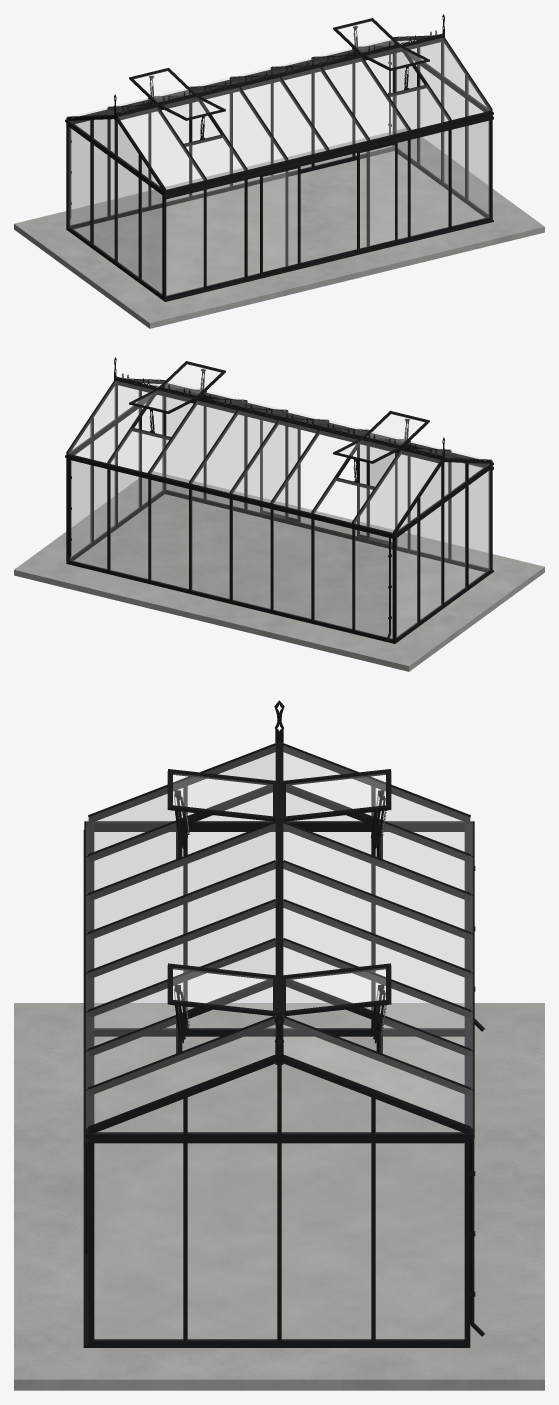
Rendered from sg-rect-10-2-19-11-decor.glb.
3 views of the same model, one above another, from view 1: azimuth 30°, elevation 25°; view 2: azimuth 150°, elevation 25°; view 3: azimuth 270°, elevation 25° (orthographic). The views are drawn at different scales.
Visible parts, largest first — view 1: scandiglas-rect-10-2-19-11-decor; view 2: scandiglas-rect-10-2-19-11-decor; view 3: scandiglas-rect-10-2-19-11-decor.
Boxes of the visible parts, x1,y1,x2,y2 form: scandiglas-rect-10-2-19-11-decor: [14, 14, 544, 328]; scandiglas-rect-10-2-19-11-decor: [14, 357, 544, 671]; scandiglas-rect-10-2-19-11-decor: [14, 700, 544, 1390].
Bounding box in the file's own units: 7.35 × 3.14 × 4.38.
5 materials, 1 textured.
